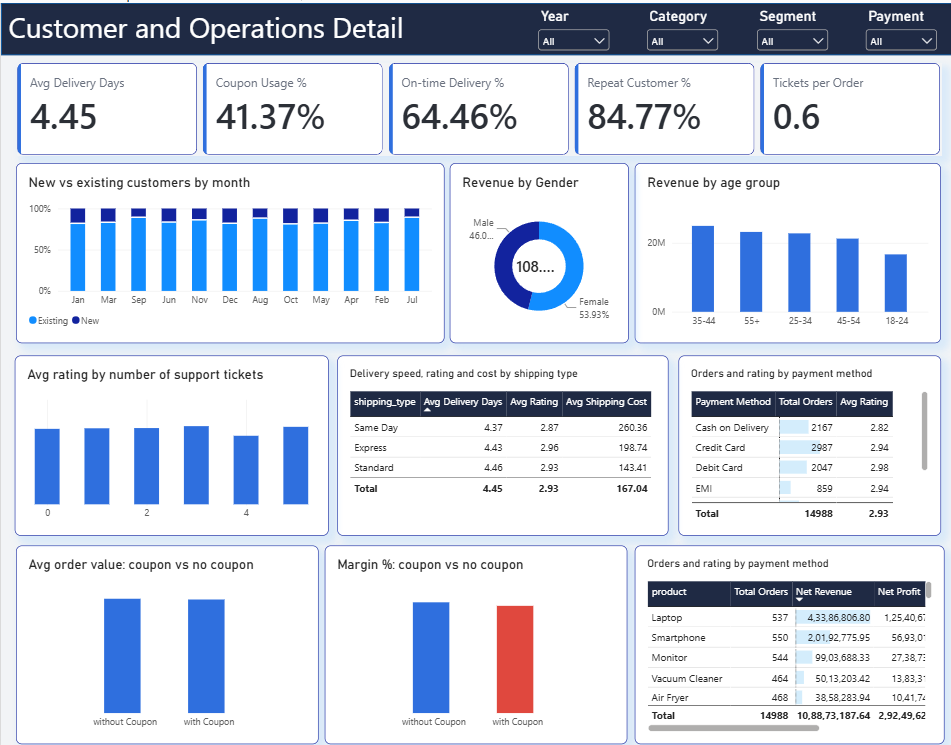

This screenshot's page, from the dashboard's own definition file:
{"tool":"powerbi","page":{"name":"Page 2","canvas":[1280,1000],"ordinal":1},"visuals":[{"type":"cardVisual","fields":{"Data":["Calendar.Avg Delivery Days","Calendar.Coupon Usage %","Calendar.On-time Delivery %","Calendar.Repeat Customer %","Calendar.Tickets per Order"]},"box":[21.8,80.4,1240,124],"z":0},{"type":"shape","box":[0,0,1280,70],"z":1000},{"type":"textbox","box":[10.1,6.7,705.4,60.3],"z":2000},{"type":"clusteredColumnChart","title":"Revenue by age group","fields":{"Y":["sales_data.Net Revenue"],"Category":["sales_data.age group"]},"box":[849.5,214.5,410.5,241.3],"z":3000},{"type":"hundredPercentStackedColumnChart","title":"New vs existing customers by month","fields":{"Category":["sales_data.shortdate"],"Y":["sales_data.Net Revenue"],"Series":["sales_data.customer_type"]},"box":[20.1,214.5,574.7,241.3],"z":4000},{"type":"donutChart","title":"Revenue by Gender","fields":{"Category":["sales_data.gender"],"Y":["sales_data.Net Revenue"]},"box":[601.5,214.5,239.6,241.3],"z":5000},{"type":"tableEx","title":"Orders and rating by payment method","fields":{"Values":["sales_data.payment_method","sales_data.Total Orders","sales_data.Avg Rating"]},"box":[908.2,472.5,351.9,241.3],"z":6000},{"type":"clusteredColumnChart","title":"Avg order value: coupon vs no coupon","fields":{"Y":["sales_data.AOV"],"Category":["sales_data.Custom"]},"box":[20.1,727.4,405.5,266.4],"z":7000},{"type":"tableEx","title":"Delivery speed, rating and cost by shipping type","fields":{"Values":["sales_data.shipping_type","Calendar.Avg Delivery Days","sales_data.Avg Rating","sales_data.Avg Shipping Cost"]},"box":[450.7,472.5,444,241.3],"z":8000},{"type":"clusteredColumnChart","title":"Avg rating by number of support tickets","fields":{"Y":["sales_data.Avg Rating"],"Category":["sales_data.support_tickets"]},"box":[18.4,472.5,420.6,241.3],"z":9000},{"type":"clusteredColumnChart","title":"Margin %: coupon vs no coupon","fields":{"Y":["sales_data.Profit Margin %"],"Category":["sales_data.Custom"]},"box":[434,727.4,405.5,266.4],"z":10000},{"type":"tableEx","title":"Orders and rating by payment method","fields":{"Values":["sales_data.product","sales_data.Total Orders","sales_data.Net Revenue","sales_data.Net Profit","sales_data.Profit Margin %","sales_data.Return Rate %"]},"box":[849.5,727.4,415.6,266.4],"z":11000},{"type":"slicer","fields":{"Values":["sales sales_data (2).order_year"]},"box":[715.5,6.7,105,60.3],"z":12000},{"type":"slicer","fields":{"Values":["sales_data.payment_method"]},"box":[1154.5,6.3,105,60],"z":13000},{"type":"slicer","fields":{"Values":["sales sales_data (2).customer_segment"]},"box":[1008.2,6.3,105,60],"z":14000},{"type":"slicer","fields":{"Values":["sales sales_data (2).customer_type"]},"box":[861.8,6.7,105,60],"z":15000}]}

Visuals, with their boxes in screenshot pixels (x1, y1, x2, y2), scaled from the page's 1280x1000 canvas onto the 951x745 screenshot:
cardVisual - Calendar.Avg Delivery Days x Calendar.Coupon Usage %: [x1=16, y1=60, x2=937, y2=152]
shape: [x1=0, y1=0, x2=950, y2=52]
textbox: [x1=8, y1=5, x2=532, y2=50]
"Revenue by age group" clusteredColumnChart: [x1=631, y1=160, x2=936, y2=340]
"New vs existing customers by month" hundredPercentStackedColumnChart: [x1=15, y1=160, x2=442, y2=340]
"Revenue by Gender" donutChart: [x1=447, y1=160, x2=625, y2=340]
"Orders and rating by payment method" tableEx: [x1=675, y1=352, x2=936, y2=532]
"Avg order value: coupon vs no coupon" clusteredColumnChart: [x1=15, y1=542, x2=316, y2=740]
"Delivery speed, rating and cost by shipping type" tableEx: [x1=335, y1=352, x2=665, y2=532]
"Avg rating by number of support tickets" clusteredColumnChart: [x1=14, y1=352, x2=326, y2=532]
"Margin %: coupon vs no coupon" clusteredColumnChart: [x1=322, y1=542, x2=624, y2=740]
"Orders and rating by payment method" tableEx: [x1=631, y1=542, x2=940, y2=740]
slicer - sales sales_data (2).order_year: [x1=532, y1=5, x2=610, y2=50]
slicer - sales_data.payment_method: [x1=858, y1=5, x2=936, y2=49]
slicer - sales sales_data (2).customer_segment: [x1=749, y1=5, x2=827, y2=49]
slicer - sales sales_data (2).customer_type: [x1=640, y1=5, x2=718, y2=50]
